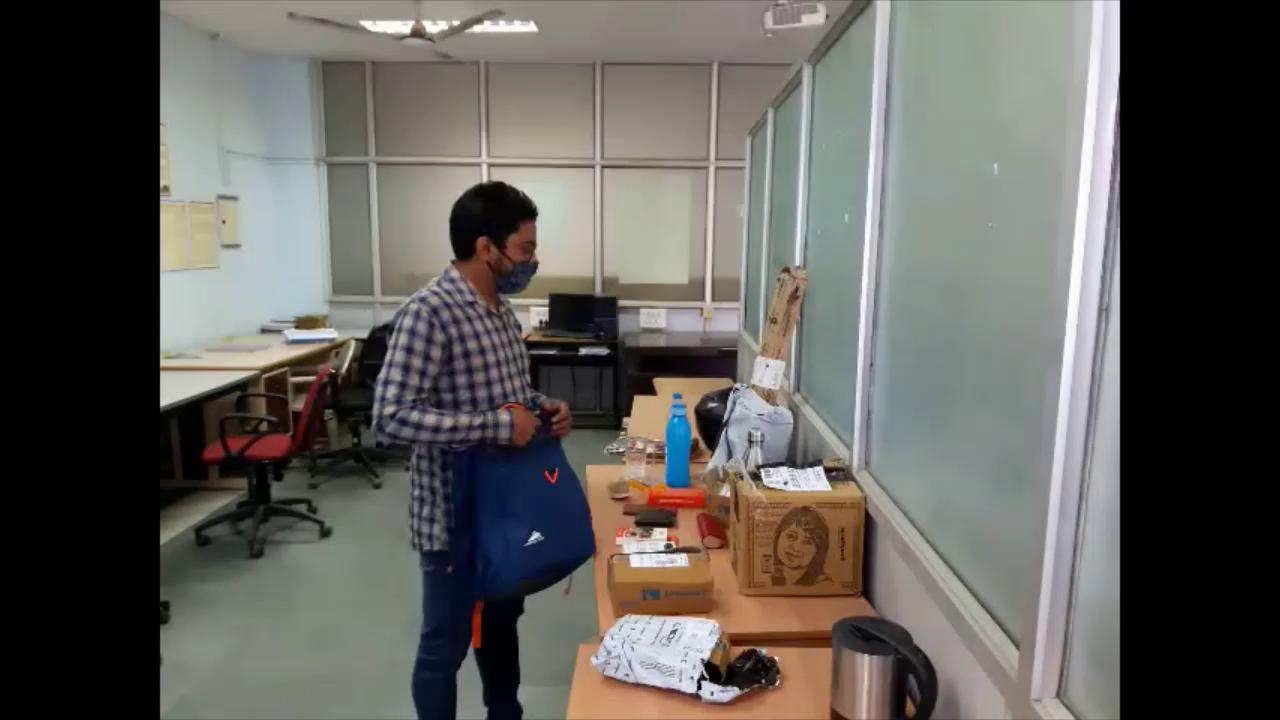shoplifting: (364, 175, 600, 720)
